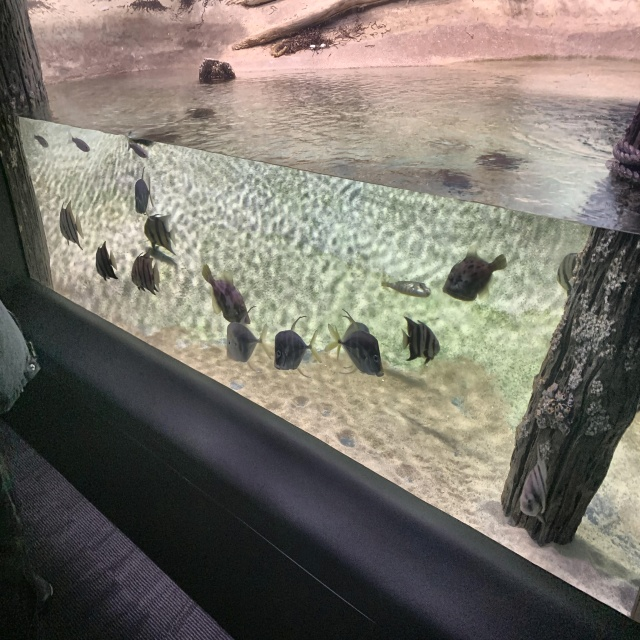fish: (324, 309, 385, 378), (442, 245, 508, 303), (226, 306, 273, 373), (273, 316, 323, 378), (201, 263, 251, 325), (519, 440, 550, 527), (401, 316, 441, 366), (335, 316, 370, 365), (556, 252, 589, 299), (144, 213, 178, 256), (131, 249, 161, 296), (59, 200, 85, 251), (134, 166, 156, 222), (95, 240, 119, 282), (380, 280, 432, 299), (66, 131, 90, 153), (126, 136, 149, 158), (32, 132, 49, 149)
